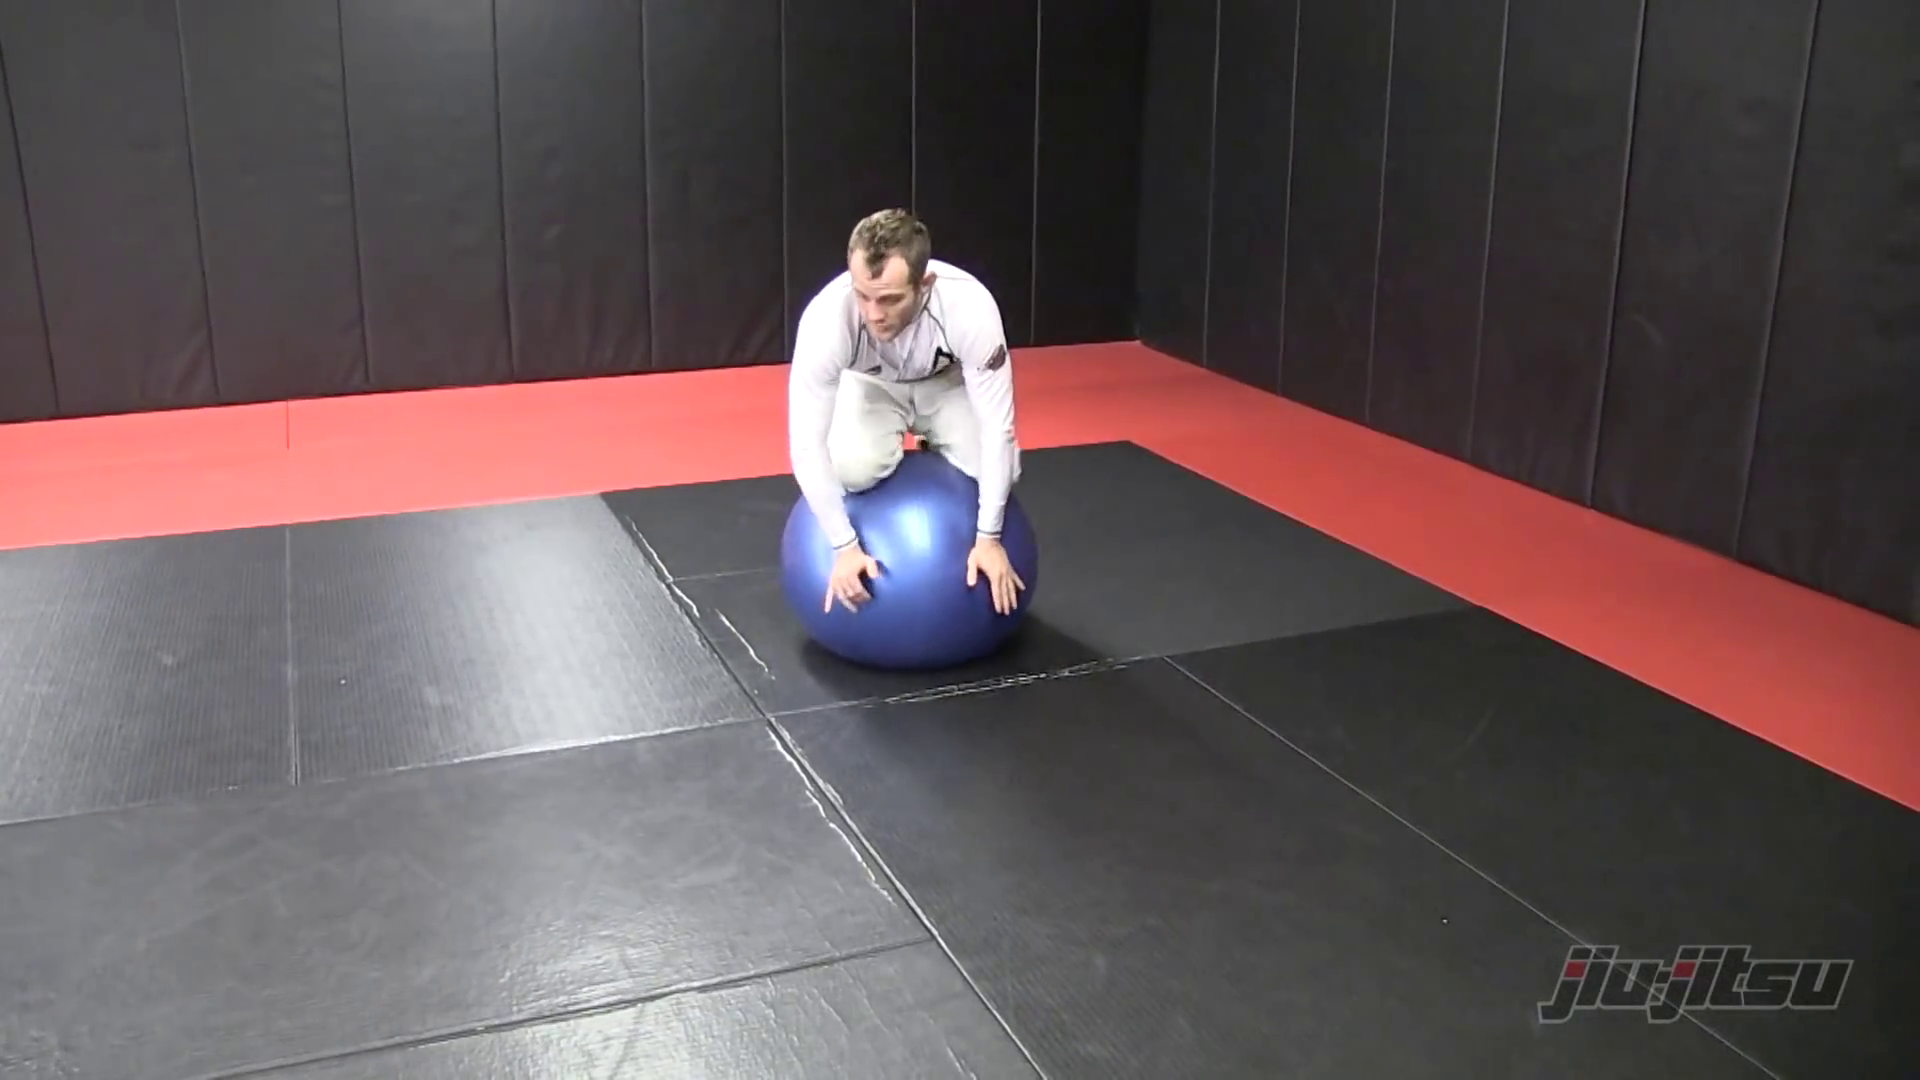yogaball: (760, 469, 1062, 684)
